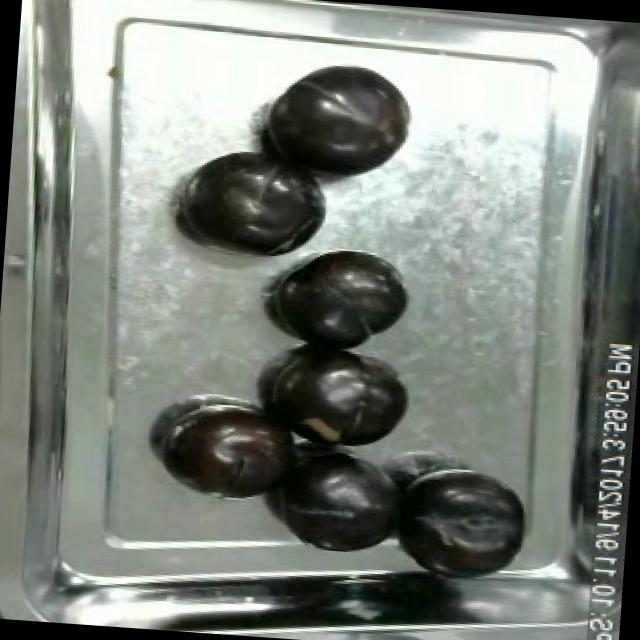Fruit: (253, 53, 420, 190), (172, 136, 332, 266), (256, 338, 422, 455), (268, 242, 419, 362), (388, 458, 539, 572), (267, 441, 408, 560), (161, 394, 304, 506)
